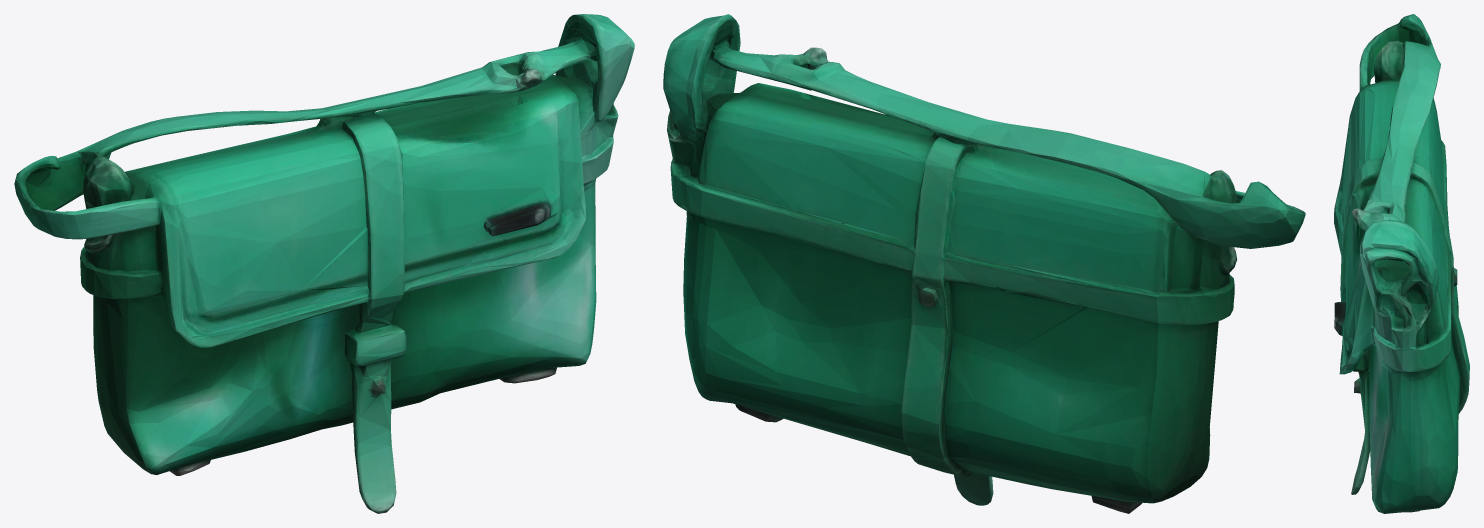
3 renders of one model, left to right at view 1: azimuth 30°, elevation 25°; view 2: azimuth 150°, elevation 25°; view 3: azimuth 270°, elevation 25°, orthographic. The views are drawn at different scales.
Visible parts, largest first — view 1: geometry_0; view 2: geometry_0; view 3: geometry_0.
Boxes of the visible parts, left/top/right/bottom form: geometry_0: left=14, top=14, right=634, bottom=513; geometry_0: left=663, top=14, right=1305, bottom=513; geometry_0: left=1334, top=14, right=1469, bottom=513.
Bounding box in the file's own units: 0.9971 × 0.6788 × 0.2275.
1 material, 1 textured.
